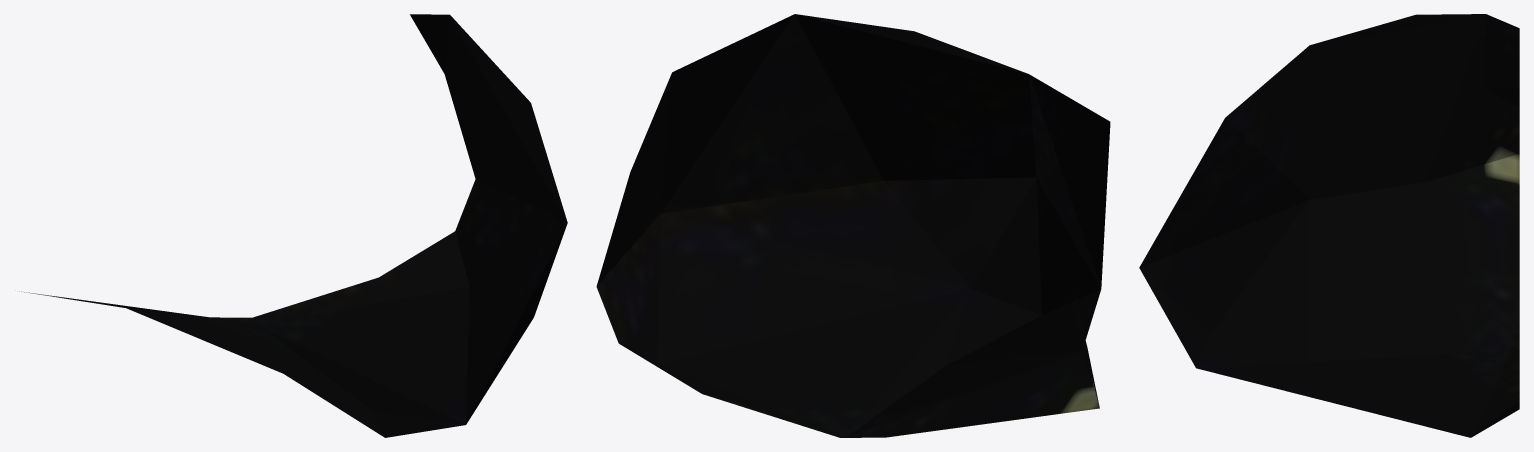
3 renders of one model, left to right at view 1: azimuth 30°, elevation 25°; view 2: azimuth 150°, elevation 25°; view 3: azimuth 270°, elevation 25°, orthographic. The views are drawn at different scales.
Bounding box in the file's own units: 0.4982 × 0.3522 × 0.3537.
1 material, 1 textured.
